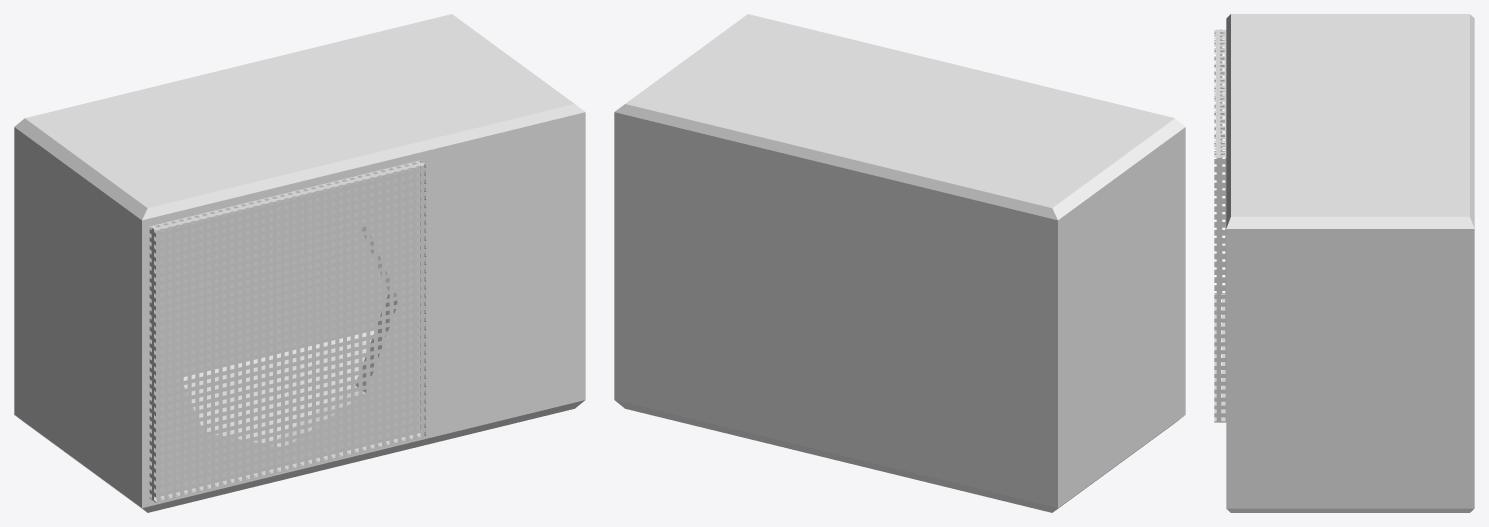
The model's file is Itr_Outdoormachine_01.FBX.
The picture shows the model from 3 angles, left to right: view 1: azimuth 30°, elevation 25°; view 2: azimuth 150°, elevation 25°; view 3: azimuth 270°, elevation 25°; orthographic projection. The views are drawn at different scales.
Visible parts, largest first — view 1: Itr_Outdoormachine_01; view 2: Itr_Outdoormachine_01; view 3: Itr_Outdoormachine_01.
Boxes of the visible parts, x1,y1,x2,y2 form: Itr_Outdoormachine_01: [14, 14, 585, 512]; Itr_Outdoormachine_01: [614, 14, 1185, 512]; Itr_Outdoormachine_01: [1214, 14, 1474, 512].
Bounding box in the file's own units: 53.65 × 35.21 × 28.01.
